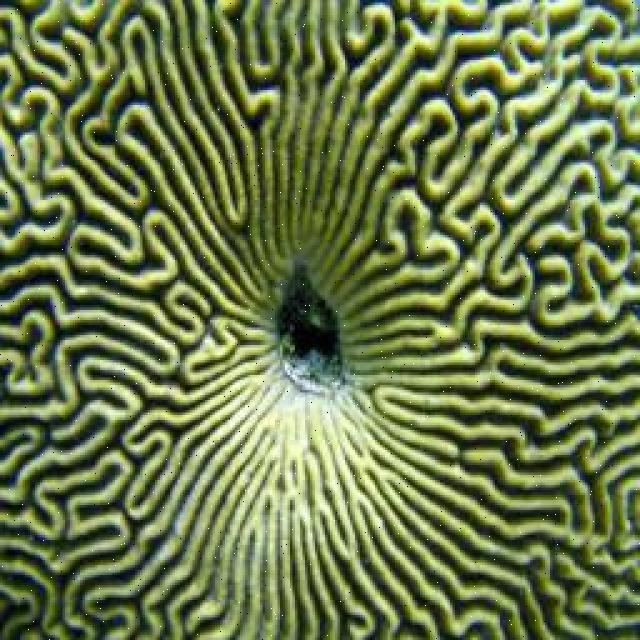reefs: (1, 2, 638, 637)
